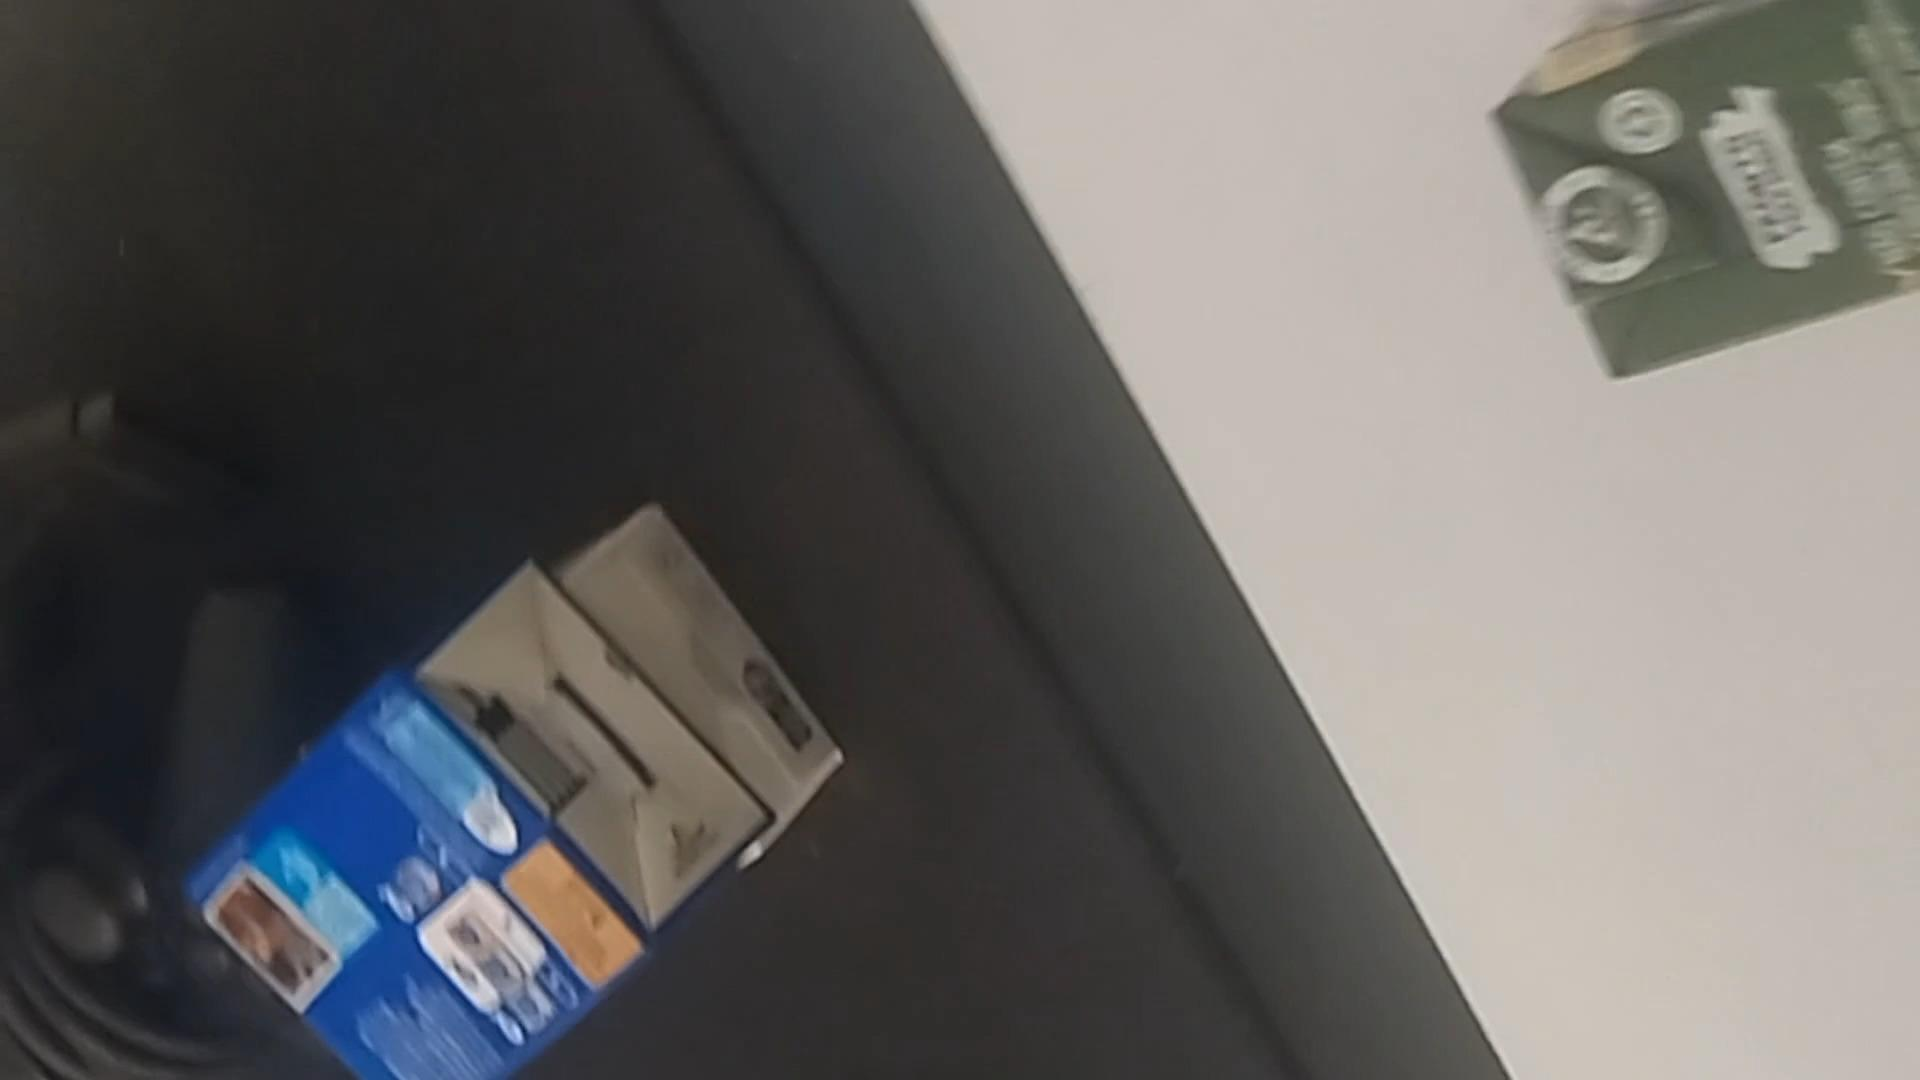coco: (1500, 0, 1920, 398)
